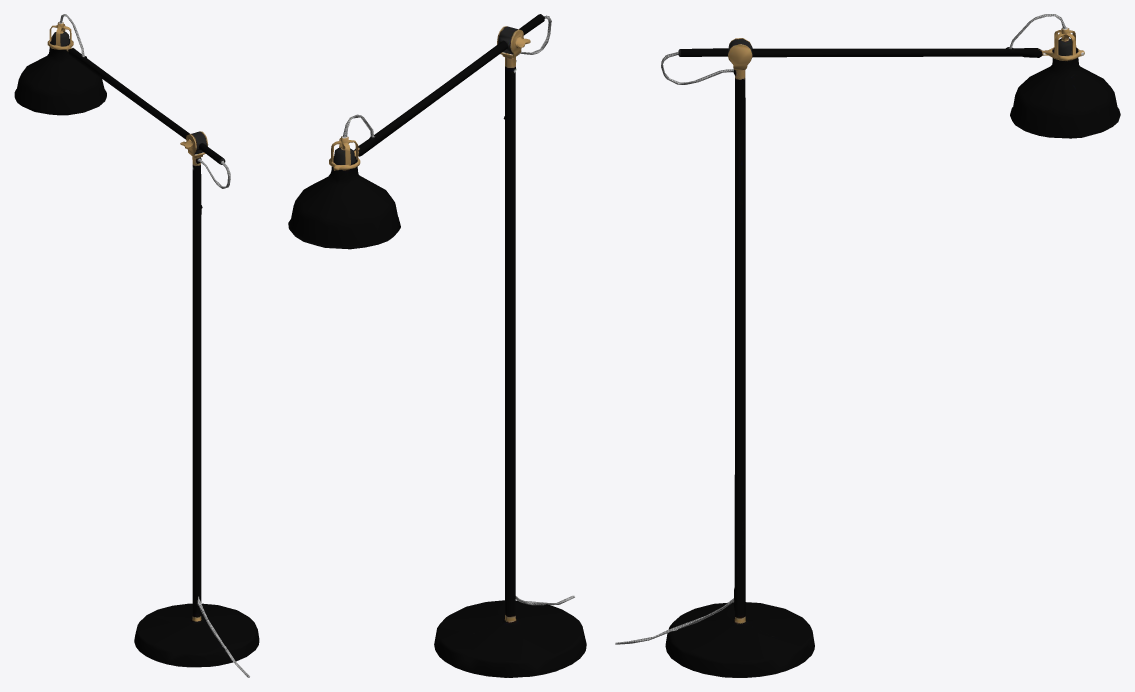
Rendered from ranarp_lampa_podogowa_do_czytania_90331374.glb.
3 views of the same model, side by side, from view 1: azimuth 30°, elevation 25°; view 2: azimuth 150°, elevation 25°; view 3: azimuth 270°, elevation 25° (orthographic). The views are drawn at different scales.
Visible parts, largest first — view 1: ranarp_lampa_podogowa_do_czytania_90331374; view 2: ranarp_lampa_podogowa_do_czytania_90331374; view 3: ranarp_lampa_podogowa_do_czytania_90331374.
Part boxes in pixels (left/top/right/bottom): ranarp_lampa_podogowa_do_czytania_90331374: left=14, top=14, right=259, bottom=677; ranarp_lampa_podogowa_do_czytania_90331374: left=288, top=14, right=586, bottom=677; ranarp_lampa_podogowa_do_czytania_90331374: left=615, top=14, right=1120, bottom=677.
Bounding box in the file's own units: 0.2803 × 1.31 × 0.9501.
Materials: 1 (1 with a texture image).
